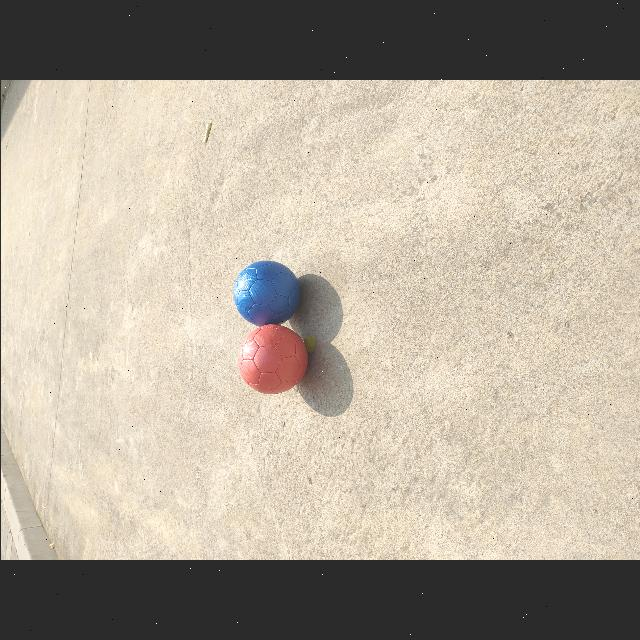B: (233, 260, 299, 327)
R: (237, 324, 307, 394)
